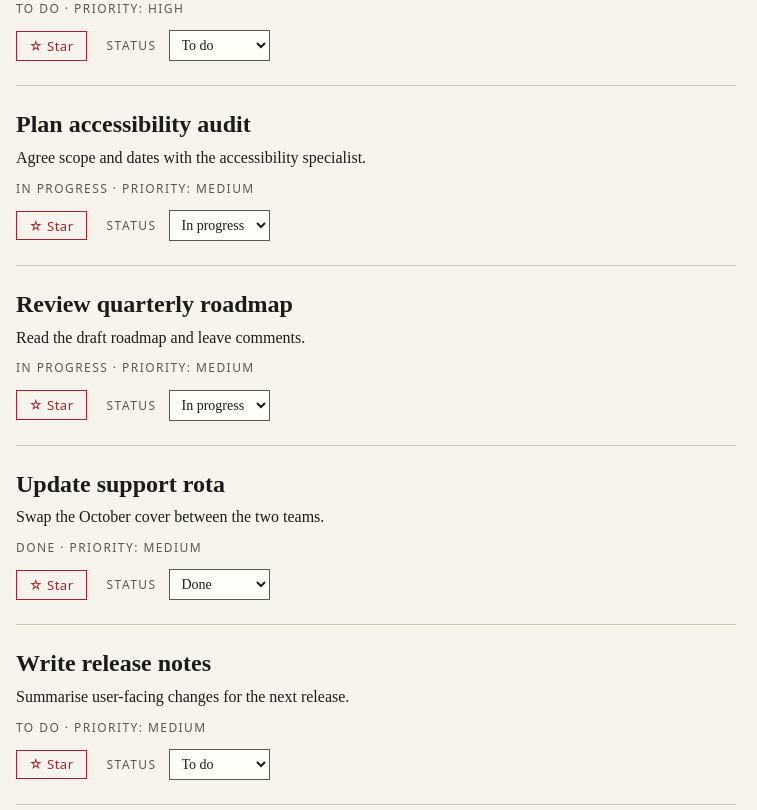
Test: App › combines Search with Status and Starred only, keeping each filter's value (SDLC-13 AC3)
(page scrolled)
Click the button with aria-label "Star Review quarterly roadmap". click: (51, 405)
box: [16,390,87,420]
(page scrolled)
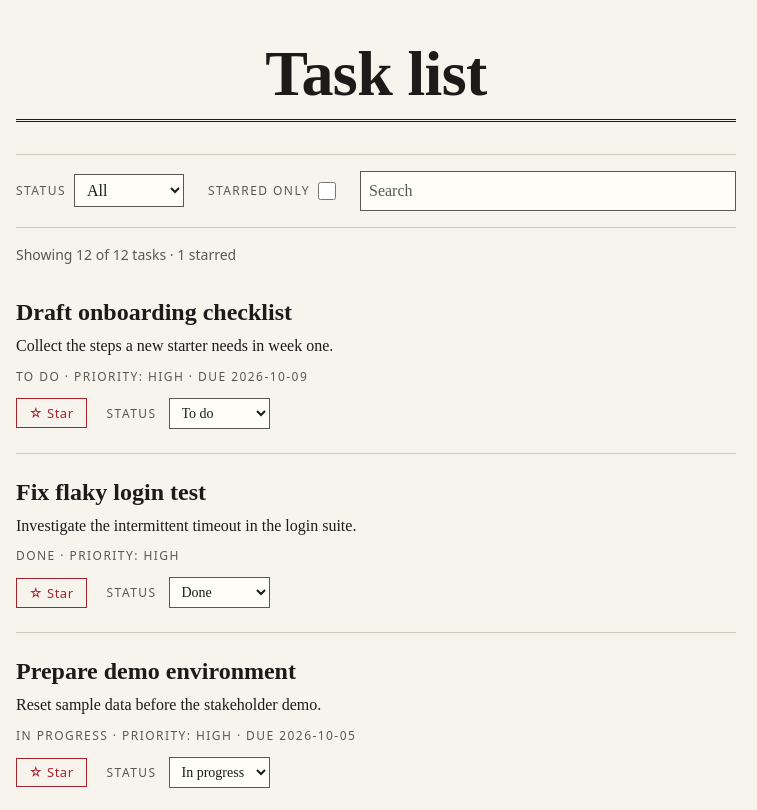
Type "re" into the search field labelled "Search". click: (548, 191)
box: [360,171,736,211]
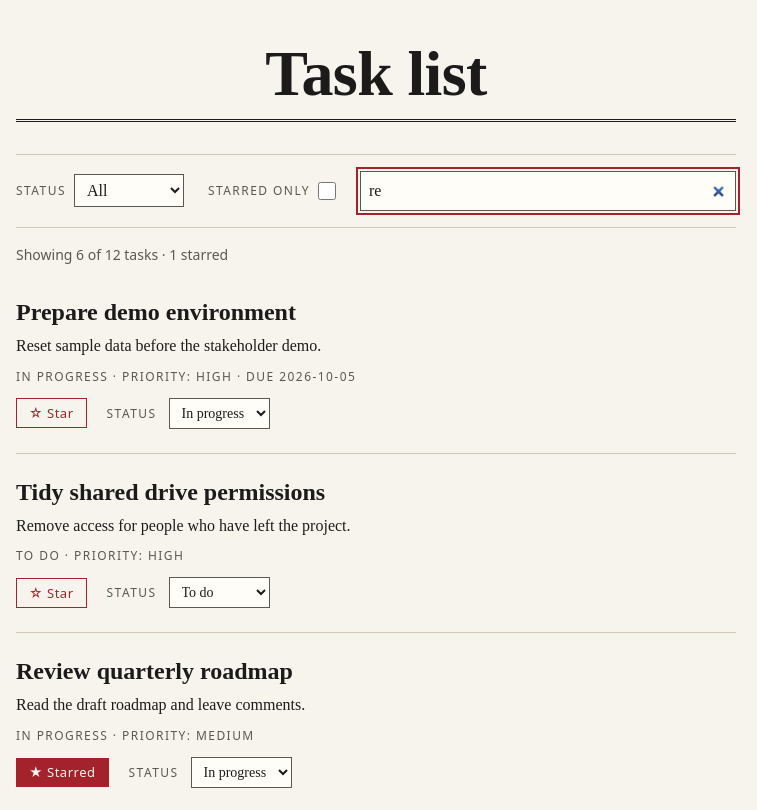
Select "In progress" in the dropdown labelled "Status" next to "Starred only". click: (129, 191)
box: [74,174,184,208]
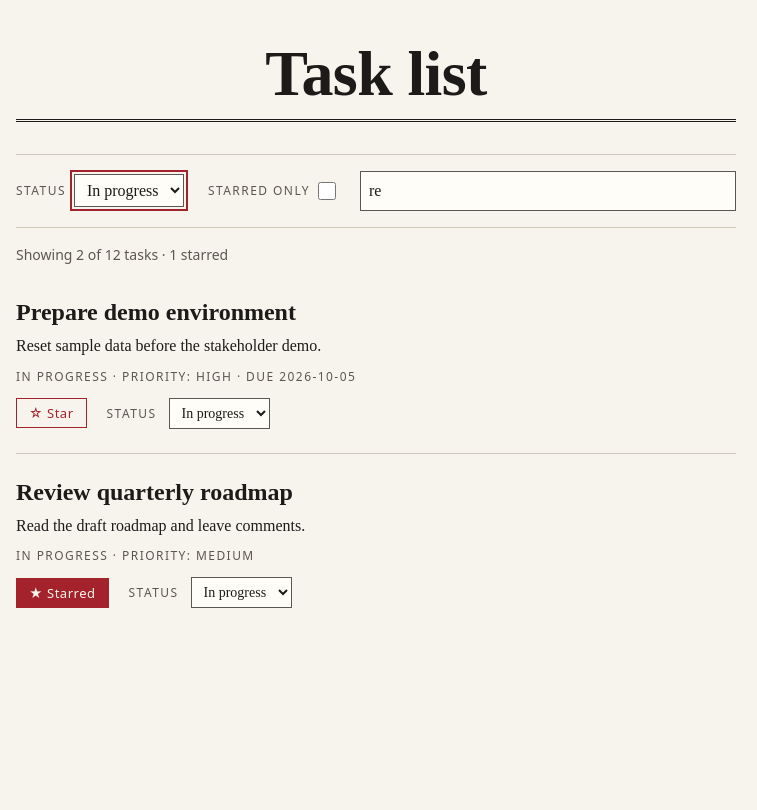
Expected: the number of list items is 2, [16,299,400,429]; [16,453,736,632]
Click the checkbox labelled "Starred only". click: (327, 191)
box: [318,182,336,200]
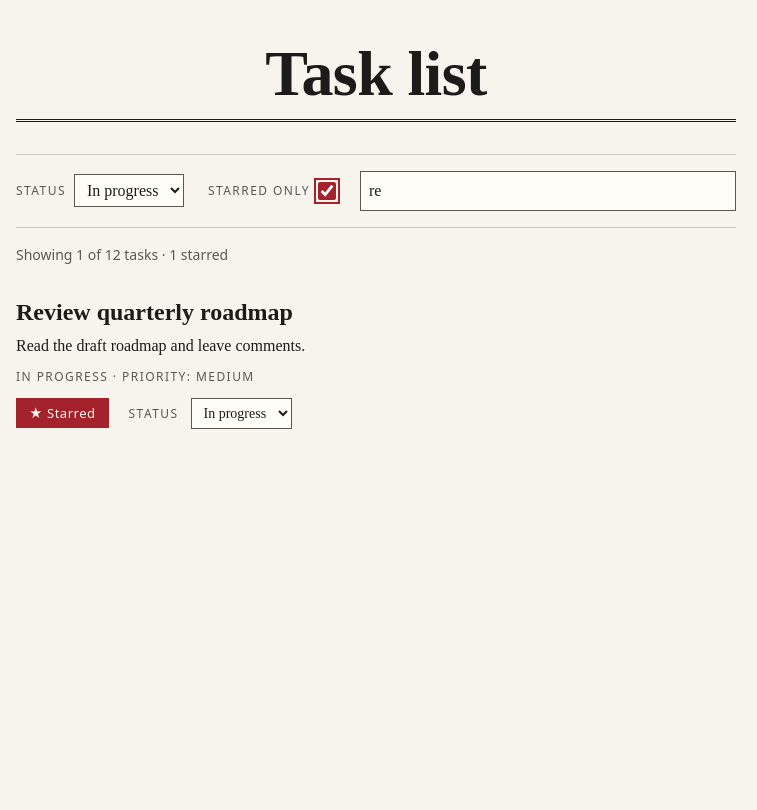
Expected: the list item shows "Review quarterly roadmap", [16,299,293,325]
Expected: the number of list items is 1, [16,299,419,429]
